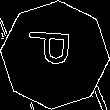P_E: (29, 35, 81, 75)
